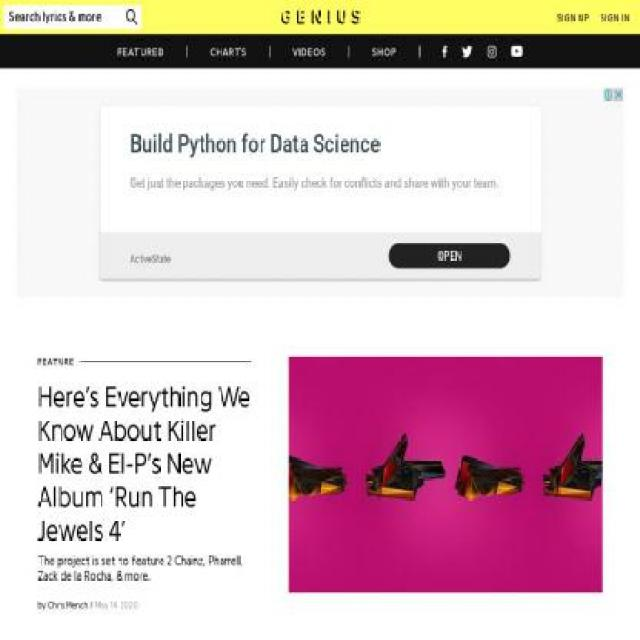button: (288, 356, 602, 612), (38, 356, 252, 612), (280, 6, 360, 28), (95, 45, 188, 58), (187, 45, 270, 58), (269, 45, 349, 58), (348, 45, 421, 58), (556, 7, 590, 27), (600, 7, 631, 27), (461, 45, 474, 58), (511, 46, 523, 57), (488, 45, 497, 58), (442, 45, 447, 58)
field: (4, 7, 122, 27)
